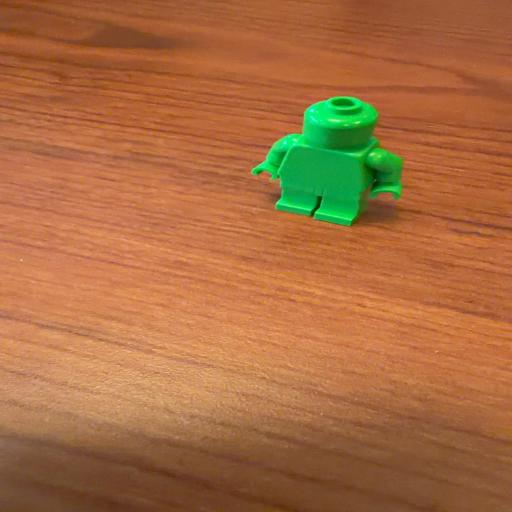UnoQ-minifig-detector: (251, 95, 402, 226)
